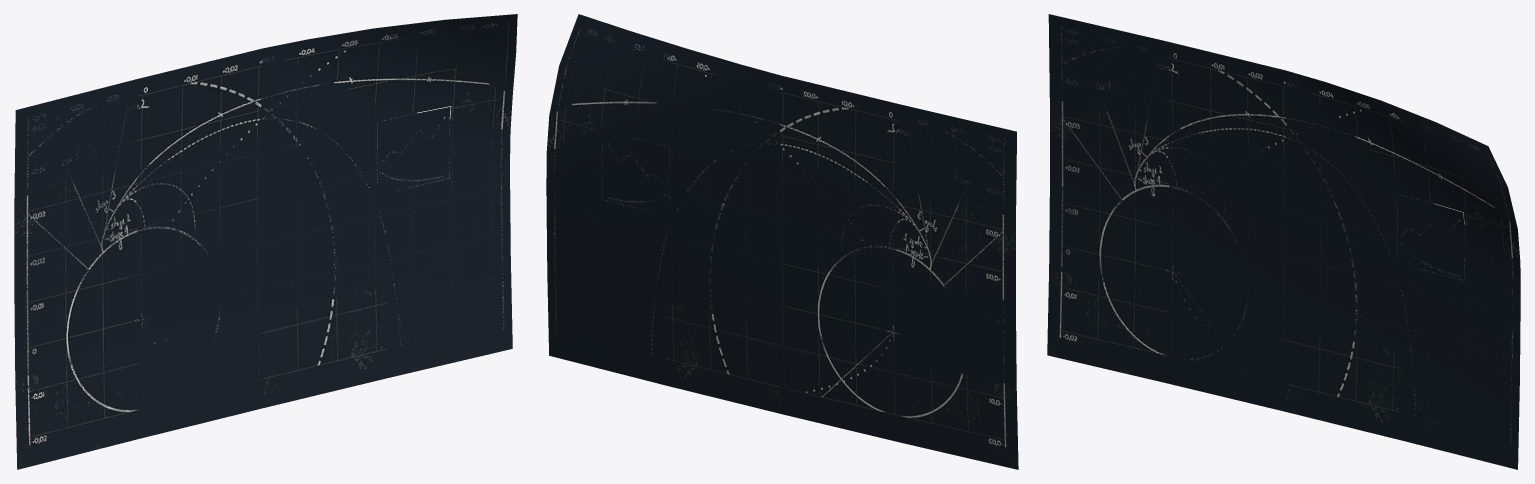
Rendered from asteroid_trajectory_map_02.dae.
3 views of the same model, side by side, from view 1: azimuth 30°, elevation 25°; view 2: azimuth 150°, elevation 25°; view 3: azimuth 330°, elevation 25° (orthographic). The views are drawn at different scales.
Visible parts, largest first — view 1: 02; view 2: 02; view 3: 02.
Part boxes in pixels (x1,y1,x2,y2): 02: (14,14,517,469); 02: (546,14,1018,469); 02: (1047,14,1520,469).
Size of the model in its own units: 2.17 by 1.5 by 0.171.
